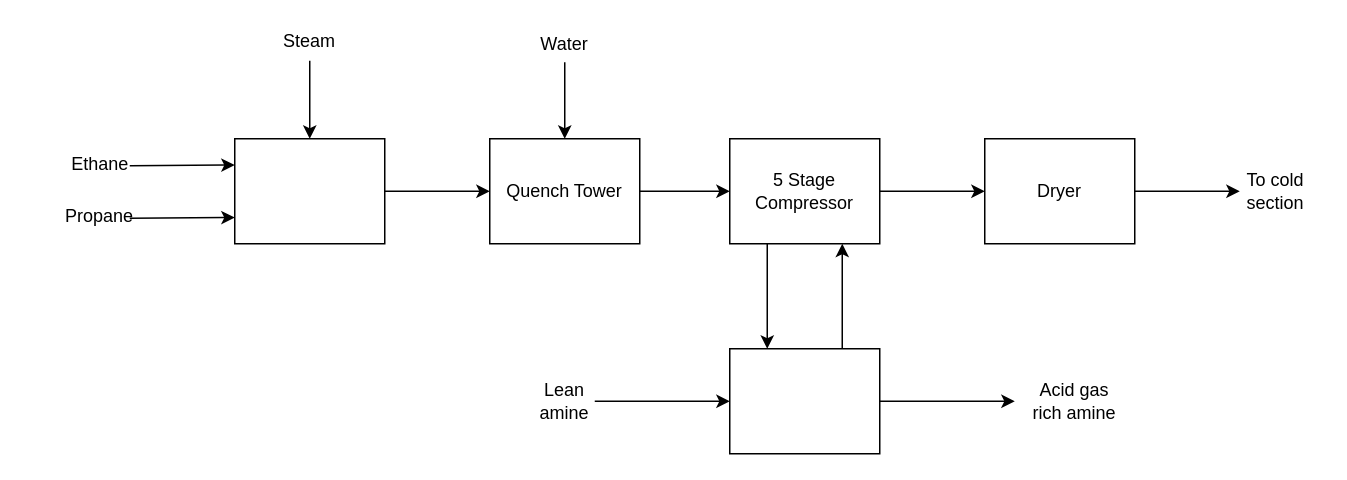
Some shapes in this 1347 by 480 pixel diagram are drawn without their labels. The shapes that lost their labels are listed below. From the top down, each one's centre as x and y in pixels, then its label:
At point (309, 190): "Steam Cracker".
At point (804, 400): "Caustic Tower".
